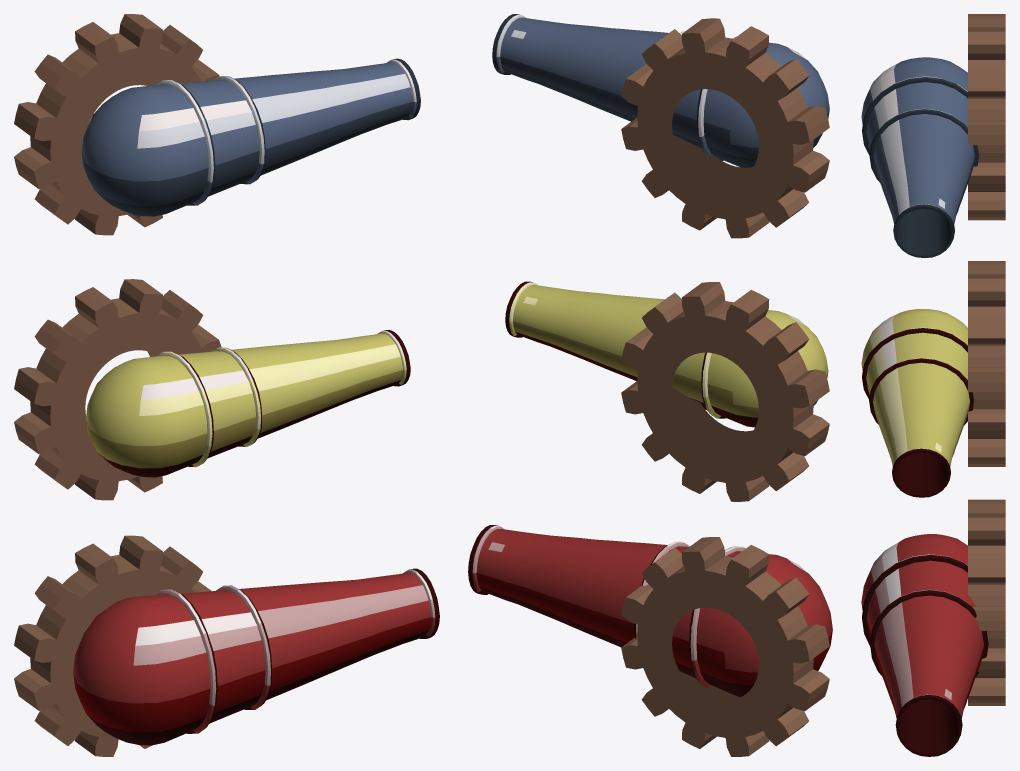
File: turrets_3_old.fbx
3 renders of one model, left to right at view 1: azimuth 30°, elevation 25°; view 2: azimuth 150°, elevation 25°; view 3: azimuth 270°, elevation 25°, orthographic. The views are drawn at different scales.
Visible parts, largest first — view 1: Cannon3, Cannon2, Cannon1; view 2: Cannon3, Cannon2, Cannon1; view 3: Cannon3, Cannon2, Cannon1.
Part boxes in pixels (left/top/right/bottom): Cannon3: left=14, top=535, right=439, bottom=756; Cannon2: left=14, top=14, right=420, bottom=235; Cannon1: left=14, top=279, right=410, bottom=500; Cannon3: left=468, top=525, right=832, bottom=756; Cannon2: left=492, top=14, right=829, bottom=238; Cannon1: left=505, top=281, right=829, bottom=501; Cannon3: left=861, top=499, right=1005, bottom=756; Cannon2: left=861, top=14, right=1005, bottom=257; Cannon1: left=861, top=261, right=1005, bottom=497.
Size of the model in its own units: 25.01 by 46.88 by 9.14.
